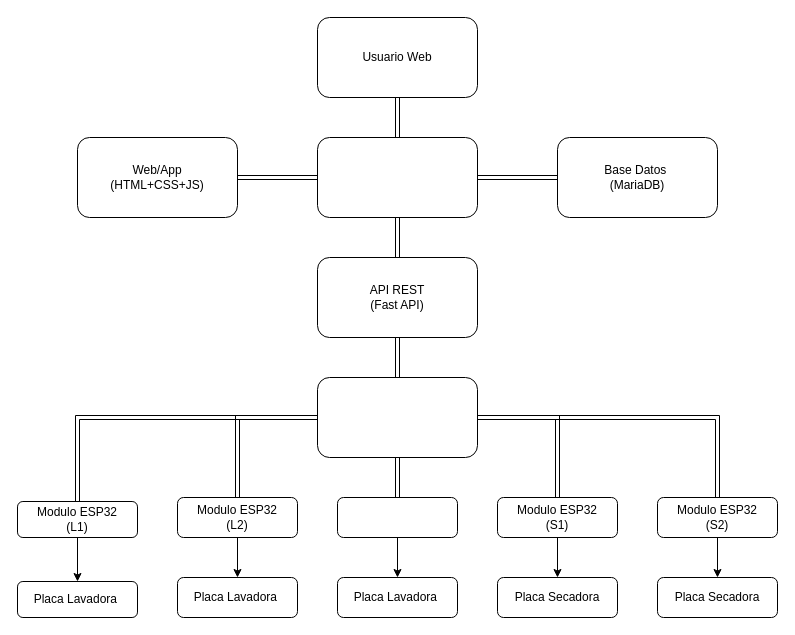
The diagram is 795 pixels wide and 635 high, and some of its shapes have lost their labels. The shapes that lost their labels are listed below. From the top down, each one's centre as x and y in pixels, then its label:
point 397,177: Rasberry Pi (Servidor Central)
point 397,417: Broker MQTT (Mosquitto)
point 397,517: Modulo ESP32 (L3)
